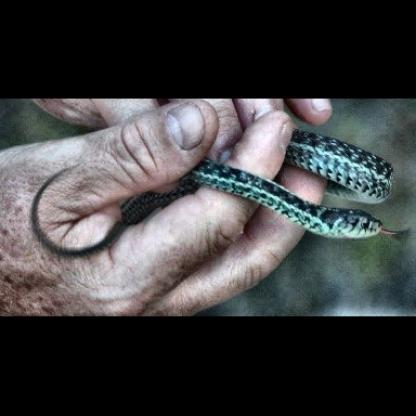Snake: (216, 129, 405, 243)
